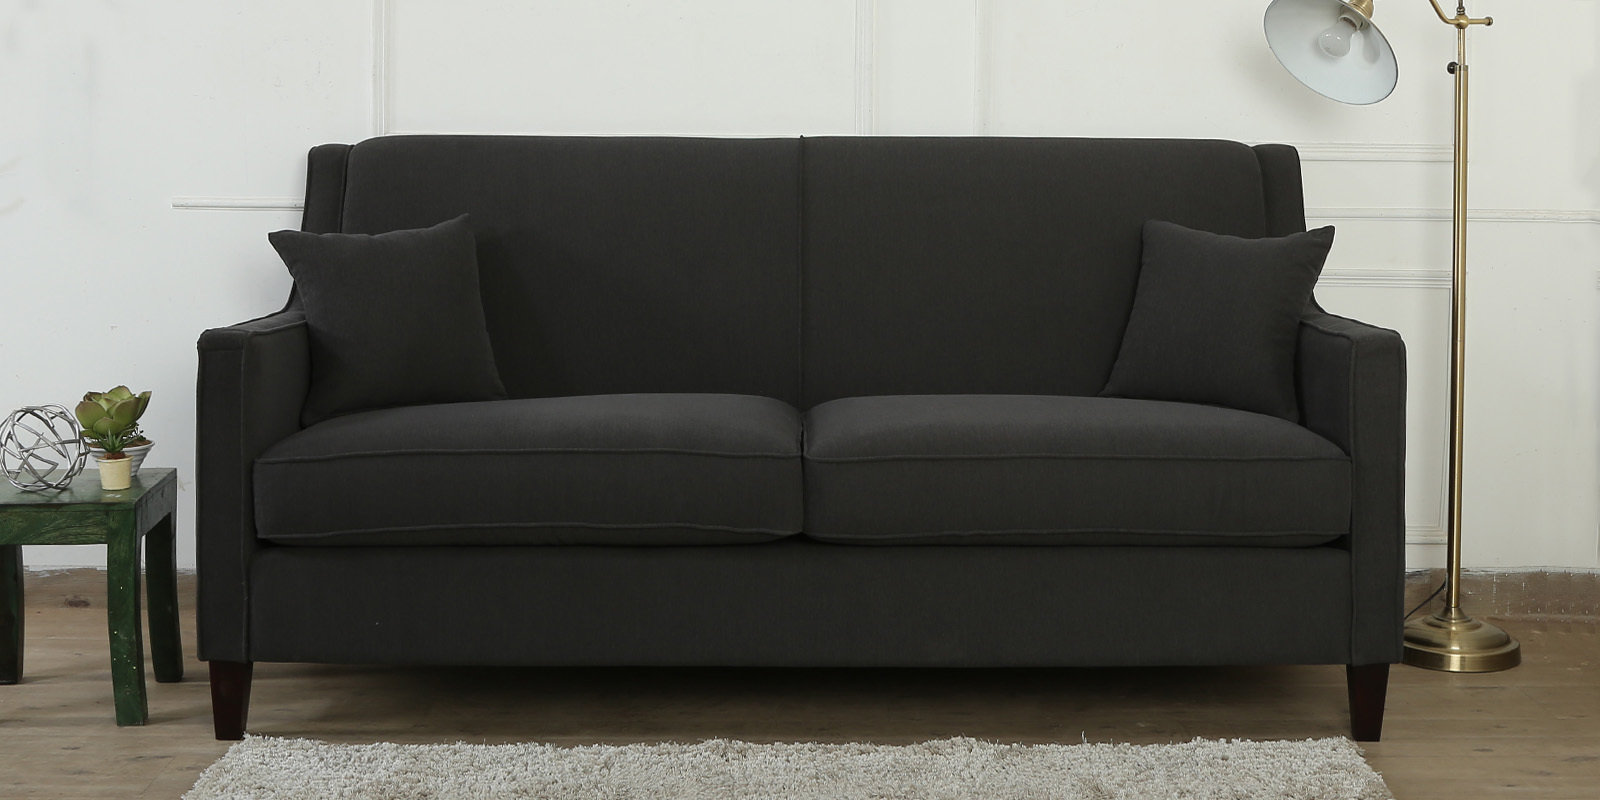Oscar Three Seater Sofa in Charcoal Grey Colour by CasaCraft: (195, 131, 1410, 739)
